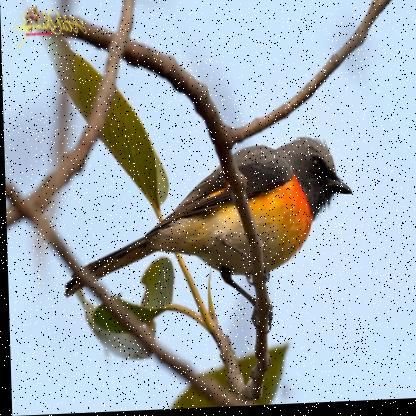Burung: (59, 137, 354, 297)
